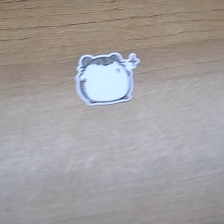mouse: (74, 51, 141, 109)
